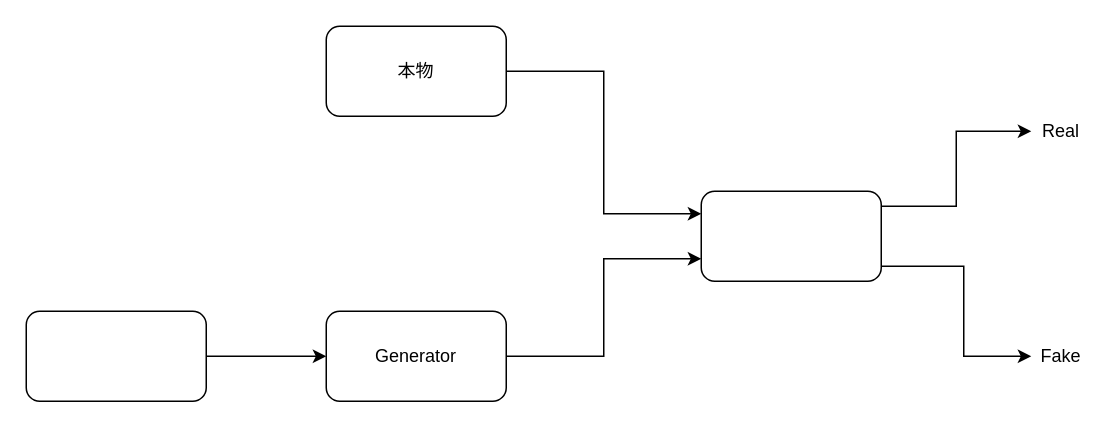
This 1118x428 diagram has some shape labels left out. Here are the shapes that lost their labels. From the top down, the centre of each, then its label:
At point 790,235: "Discriminator".
At point 115,355: "ランダムノイズ".
